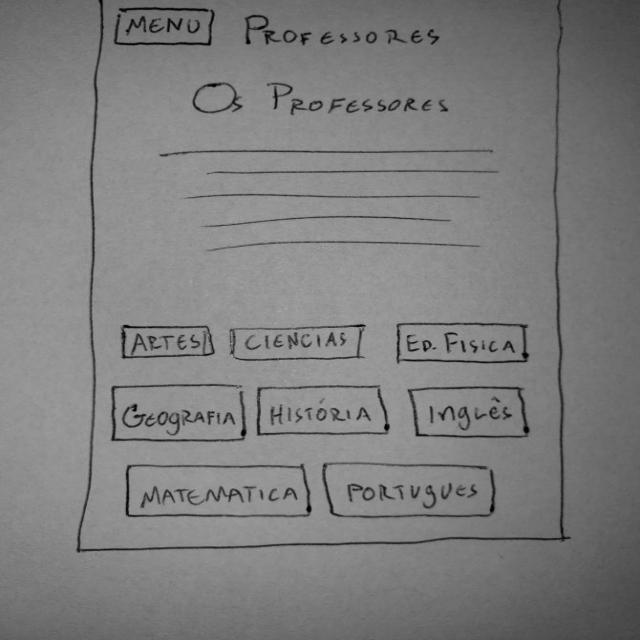button: (122, 463, 316, 519), (315, 460, 500, 518), (107, 383, 248, 443), (253, 384, 391, 436), (410, 385, 536, 440), (392, 322, 532, 366), (226, 321, 372, 363), (112, 5, 220, 50), (120, 323, 220, 361)
container: (74, 0, 572, 551)
label: (181, 82, 470, 122), (241, 12, 455, 52)
textbox: (156, 146, 506, 258)
